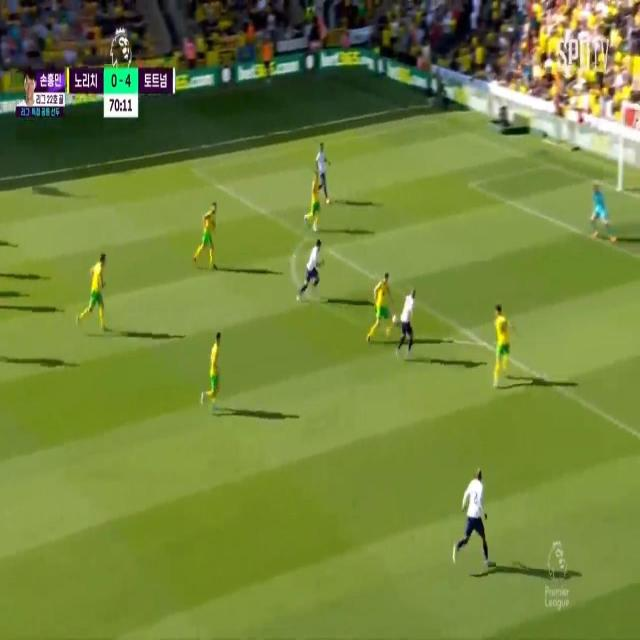ball: (391, 305, 401, 329)
player: (373, 258, 395, 346), (462, 466, 487, 543), (198, 200, 222, 274), (204, 329, 227, 406), (85, 253, 105, 327), (492, 306, 512, 378), (398, 282, 419, 350), (304, 233, 324, 296), (317, 136, 331, 202), (308, 165, 319, 234)
